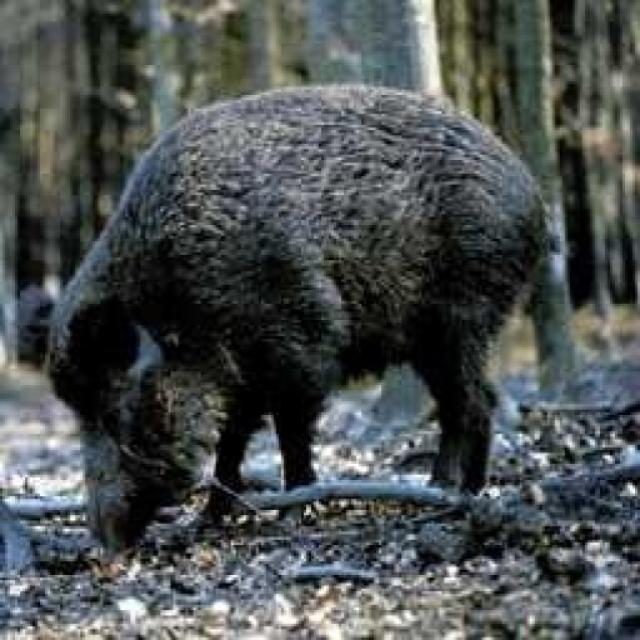pig: (2, 82, 598, 534)
